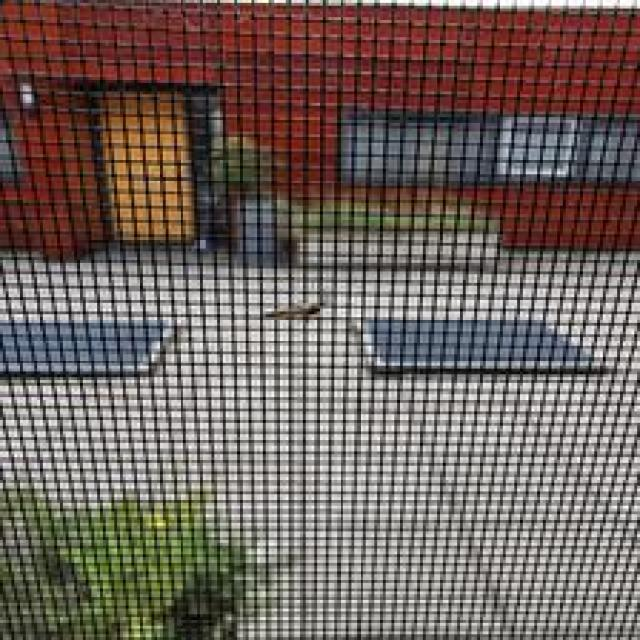Culex: (356, 316, 610, 376)
